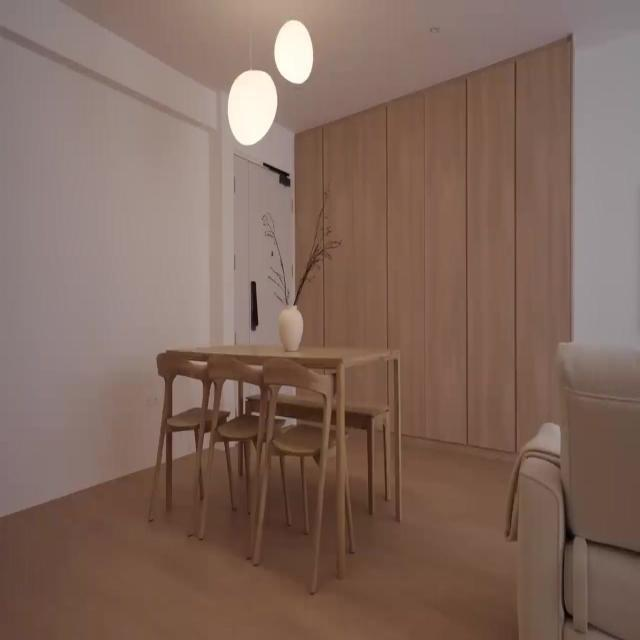obstacle: (153, 342, 403, 580), (510, 340, 640, 638)
